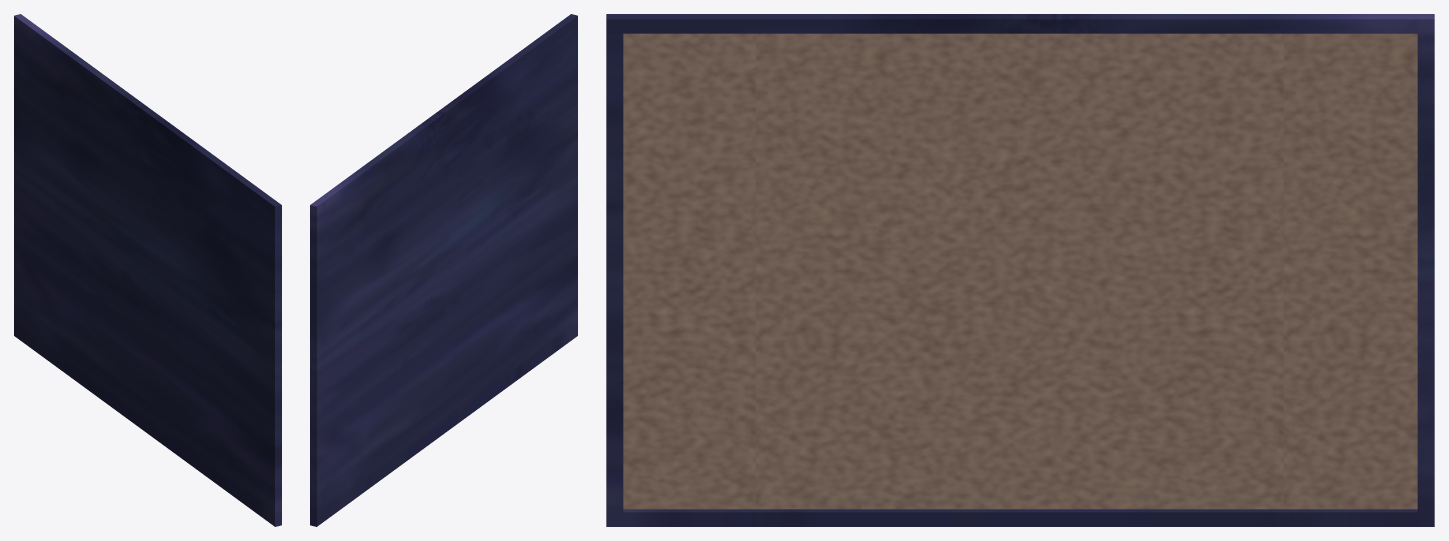
Rendered from obj_Pinboard.obj.
The picture shows the model from 3 angles, left to right: view 1: azimuth 30°, elevation 25°; view 2: azimuth 150°, elevation 25°; view 3: azimuth 270°, elevation 25°; orthographic projection. The views are drawn at different scales.
Visible parts, largest first — view 1: obj_Pinboard; view 2: obj_Pinboard; view 3: obj_Pinboard.
Boxes of the visible parts, box(x1,y1,x2,y2) form: obj_Pinboard: box(14, 14, 281, 526); obj_Pinboard: box(310, 14, 577, 526); obj_Pinboard: box(606, 14, 1434, 526).
Size of the model in its own units: 0.0198 by 0.8892 by 1.31.
